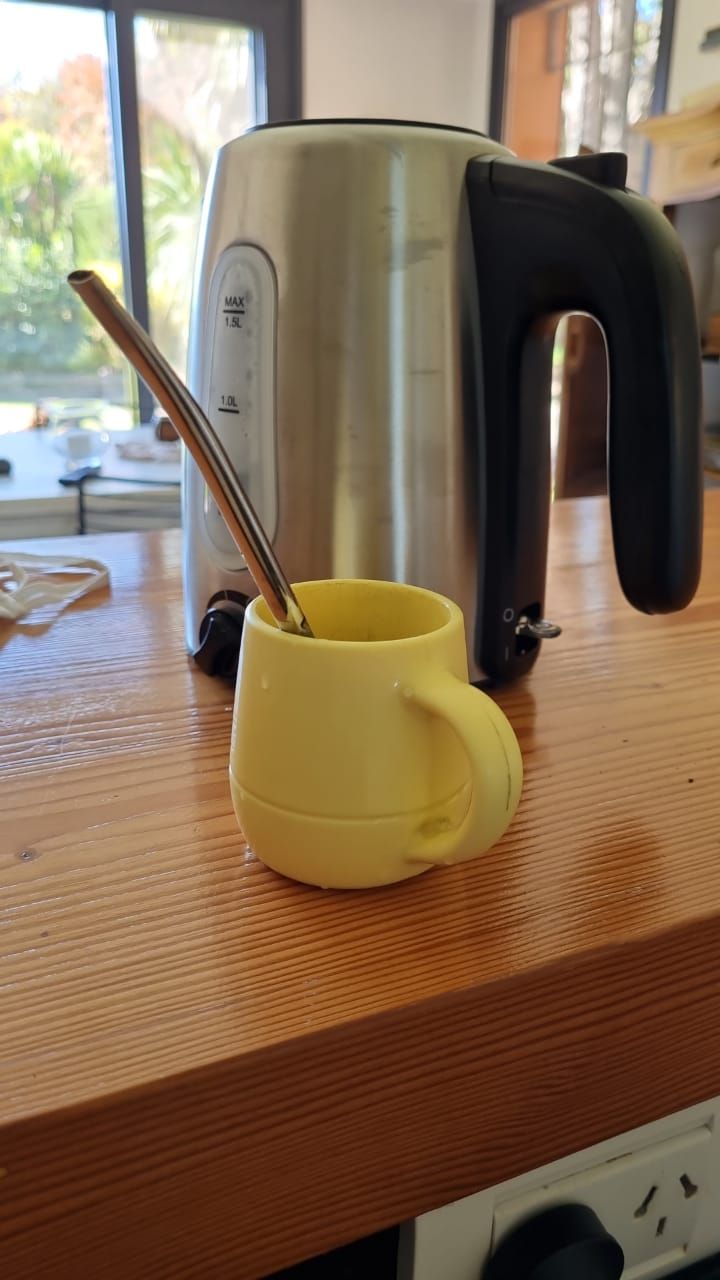mate: (241, 575, 528, 901)
